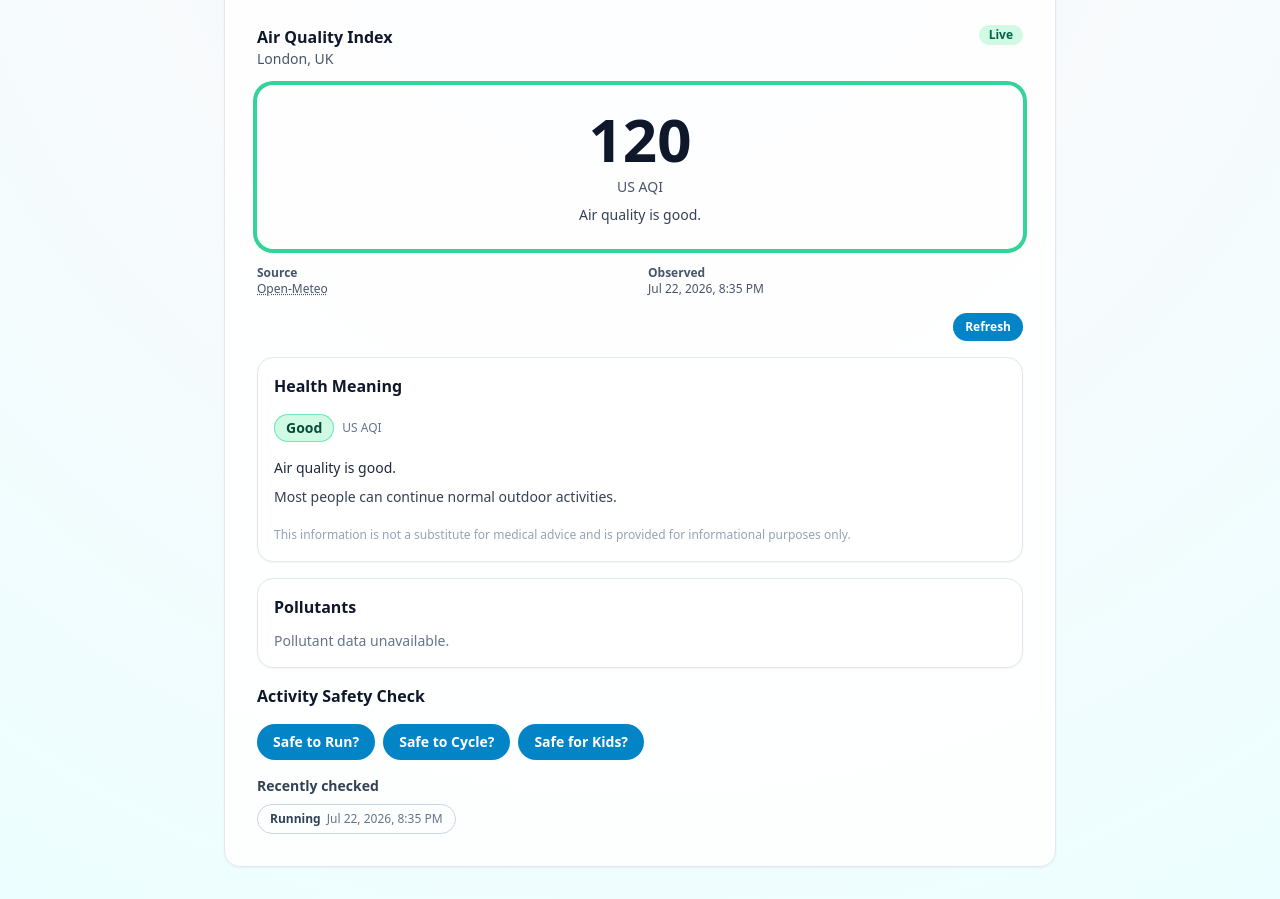
Test: Activity Safety Check – Run/Cycle golden path › AQI 120: tapping Safe to Cycle? shows Limit activity with a plain-language reason
(page scrolled)
Expected: the button "Safe to Run?" is shown, [257,724,375,760]
Click the button "Safe to Cycle?": (447, 742) [383,724,510,760]
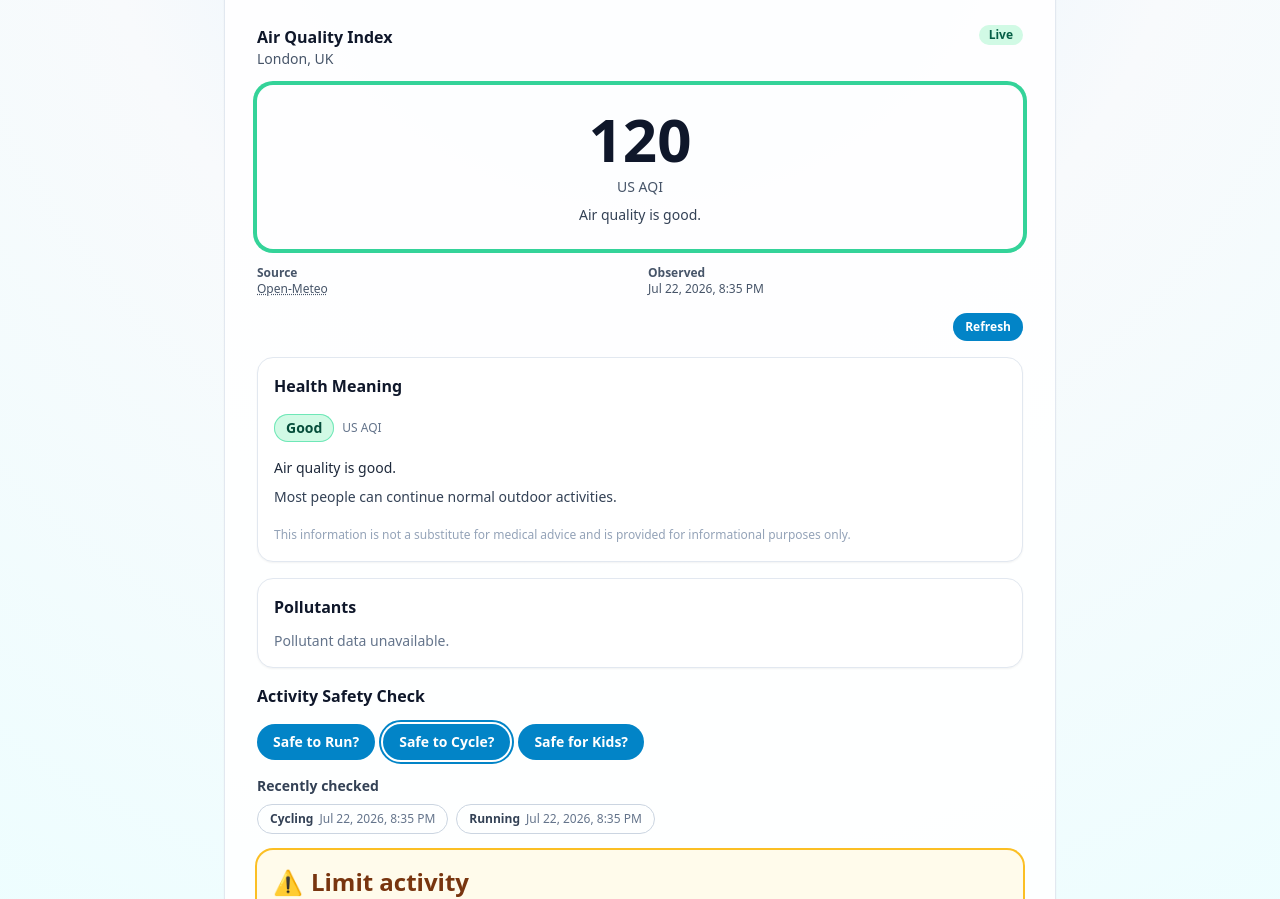
Expected: the text "Limit activity" is shown, [311,866,469,898]
